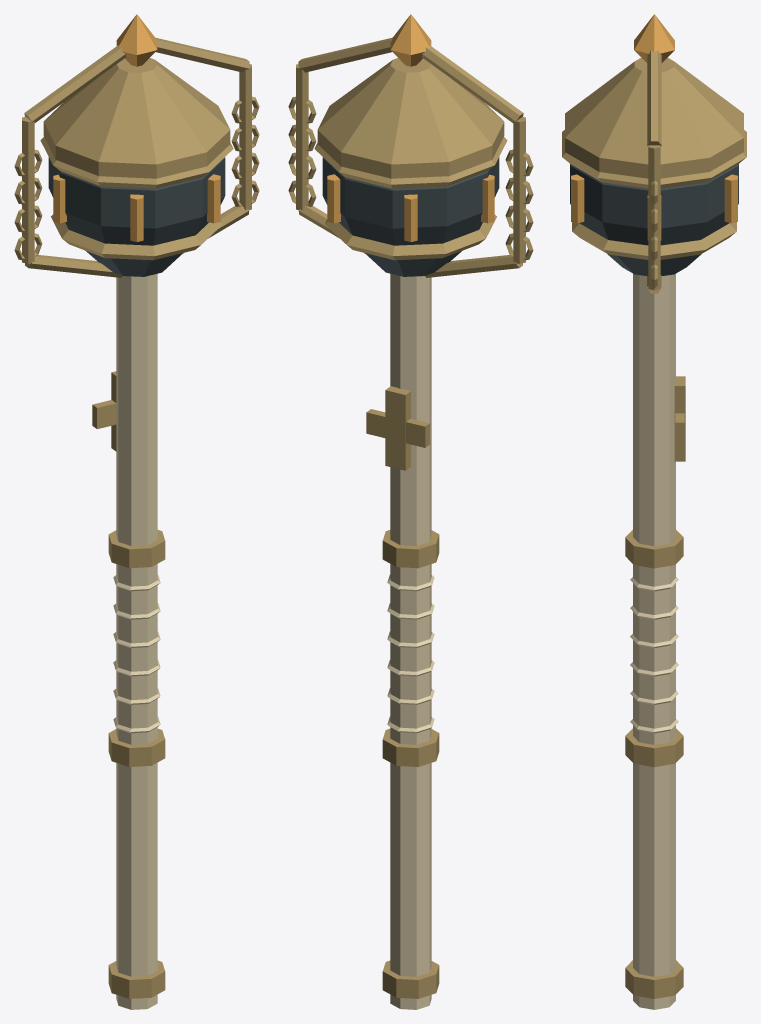
Rendered from Profession_MercyCenser.fbx.
3 renders of one model, left to right at view 1: azimuth 30°, elevation 25°; view 2: azimuth 150°, elevation 25°; view 3: azimuth 270°, elevation 25°, orthographic.
Visible parts, largest first — view 1: Profession_MercyCenser; view 2: Profession_MercyCenser; view 3: Profession_MercyCenser.
Boxes of the visible parts, x1,y1,x2,y2 form: Profession_MercyCenser: (14, 14, 259, 1009); Profession_MercyCenser: (288, 14, 533, 1009); Profession_MercyCenser: (562, 14, 746, 1009).
Bounding box in the file's own units: 0.542 × 2.09 × 0.3538.
